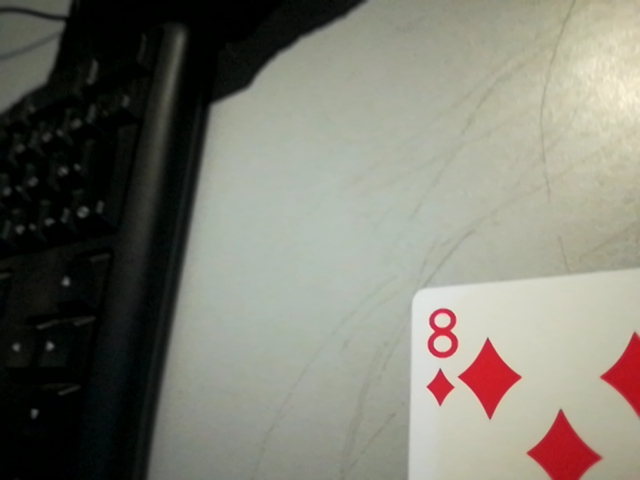fk 8: (413, 299, 468, 413)
